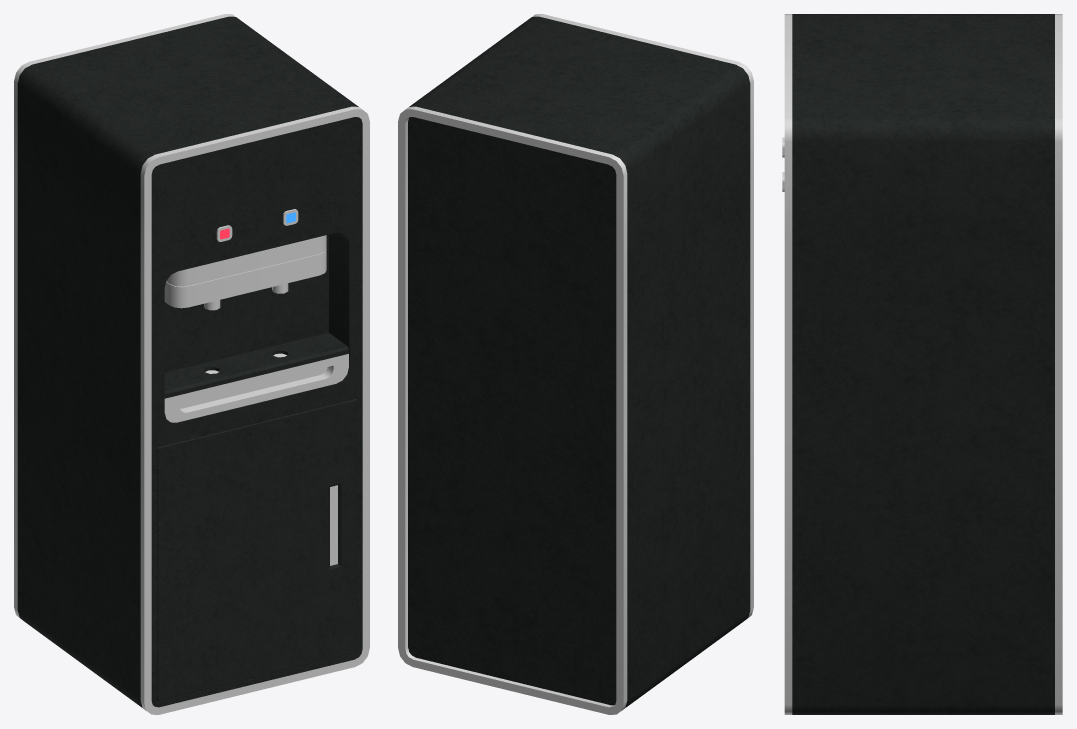
The model's file is water_dispenser.glb.
The picture shows the model from 3 angles, left to right: view 1: azimuth 30°, elevation 25°; view 2: azimuth 150°, elevation 25°; view 3: azimuth 270°, elevation 25°; orthographic projection. The views are drawn at different scales.
Visible parts, largest first — view 1: water_dispenser; view 2: water_dispenser; view 3: water_dispenser.
Boxes of the visible parts, x1,y1,x2,y2 form: water_dispenser: (14, 14, 369, 714); water_dispenser: (398, 14, 753, 714); water_dispenser: (782, 14, 1062, 714).
Size of what is drawn, in the model's own units: 0.6543 by 1.55 by 0.6592.
4 materials, 1 textured.
